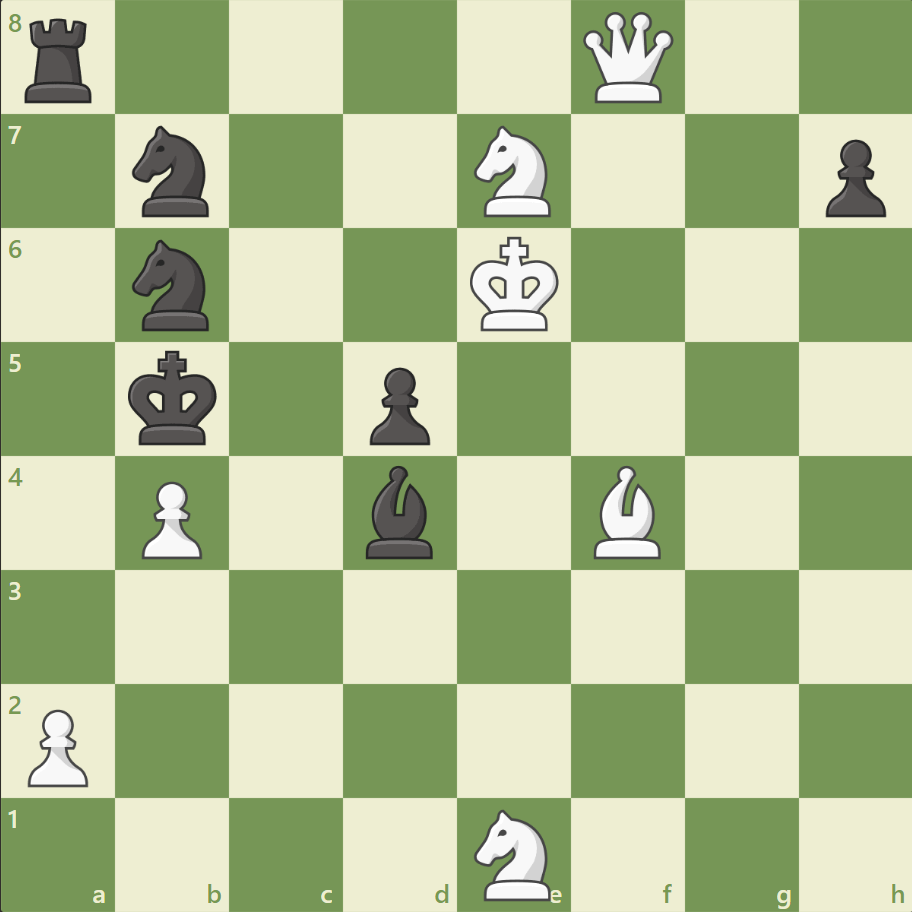B: (585, 460, 669, 563)
K: (465, 231, 565, 339)
N: (465, 121, 562, 223), (465, 802, 562, 904)
P: (133, 473, 208, 564), (20, 700, 95, 791)
Q: (578, 9, 677, 108)
b: (358, 460, 442, 563)
k: (124, 344, 224, 452)
n: (124, 234, 222, 337), (124, 121, 222, 223)
p: (815, 132, 889, 223), (361, 359, 435, 450)
r: (19, 12, 102, 109)
